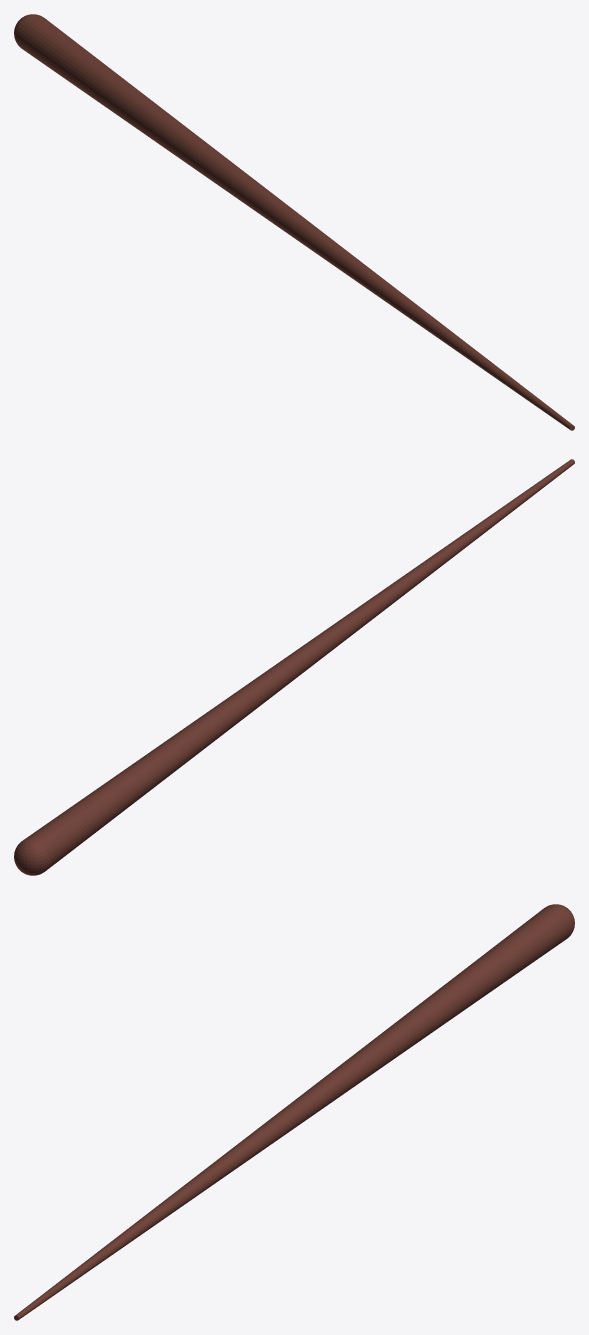
The model's file is betigas.fbx.
3 renders of one model, top to bottom at view 1: azimuth 30°, elevation 25°; view 2: azimuth 150°, elevation 25°; view 3: azimuth 330°, elevation 25°, orthographic.
Parts seen in each view (by area): view 1: Betigas; view 2: Betigas; view 3: Betigas.
Boxes of the visible parts, x1,y1,x2,y2 form: Betigas: (14,14,574,430); Betigas: (14,459,574,875); Betigas: (14,904,574,1320).
Size of the model in its own units: 200 by 200 by 5724.
